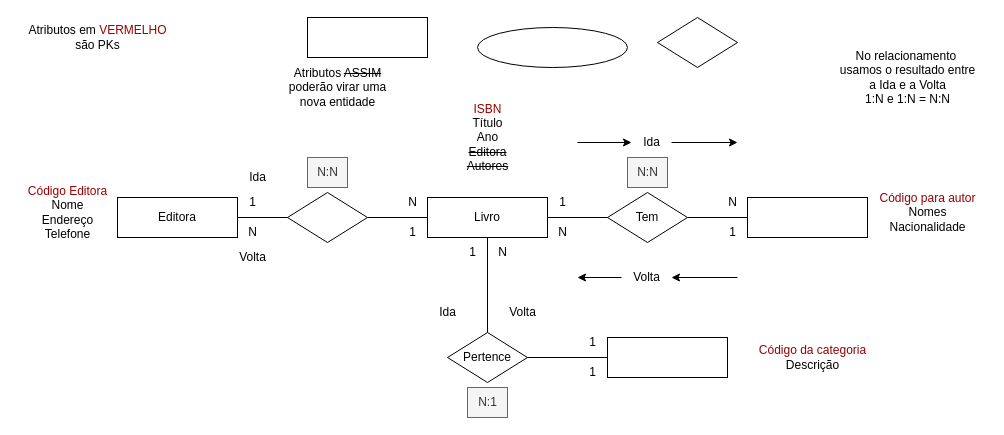
The diagram is 1004 pixels wide and 435 high, and some of its shapes have lost their labels. Here are the shapes that lost their labels. From the top down, the box of each, then its label:
(286, 192, 368, 242): Publica
(746, 196, 868, 238): Autor
(606, 336, 728, 378): Categoria
